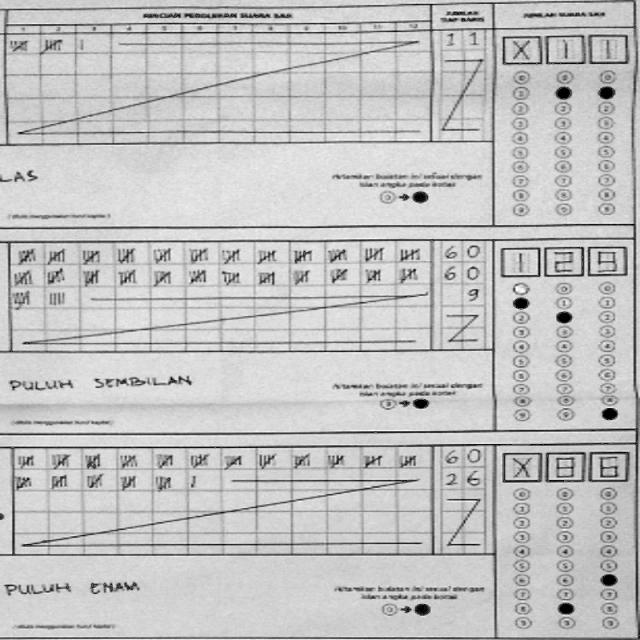Suara: (498, 30, 628, 66), (495, 242, 628, 277), (498, 447, 632, 480)
